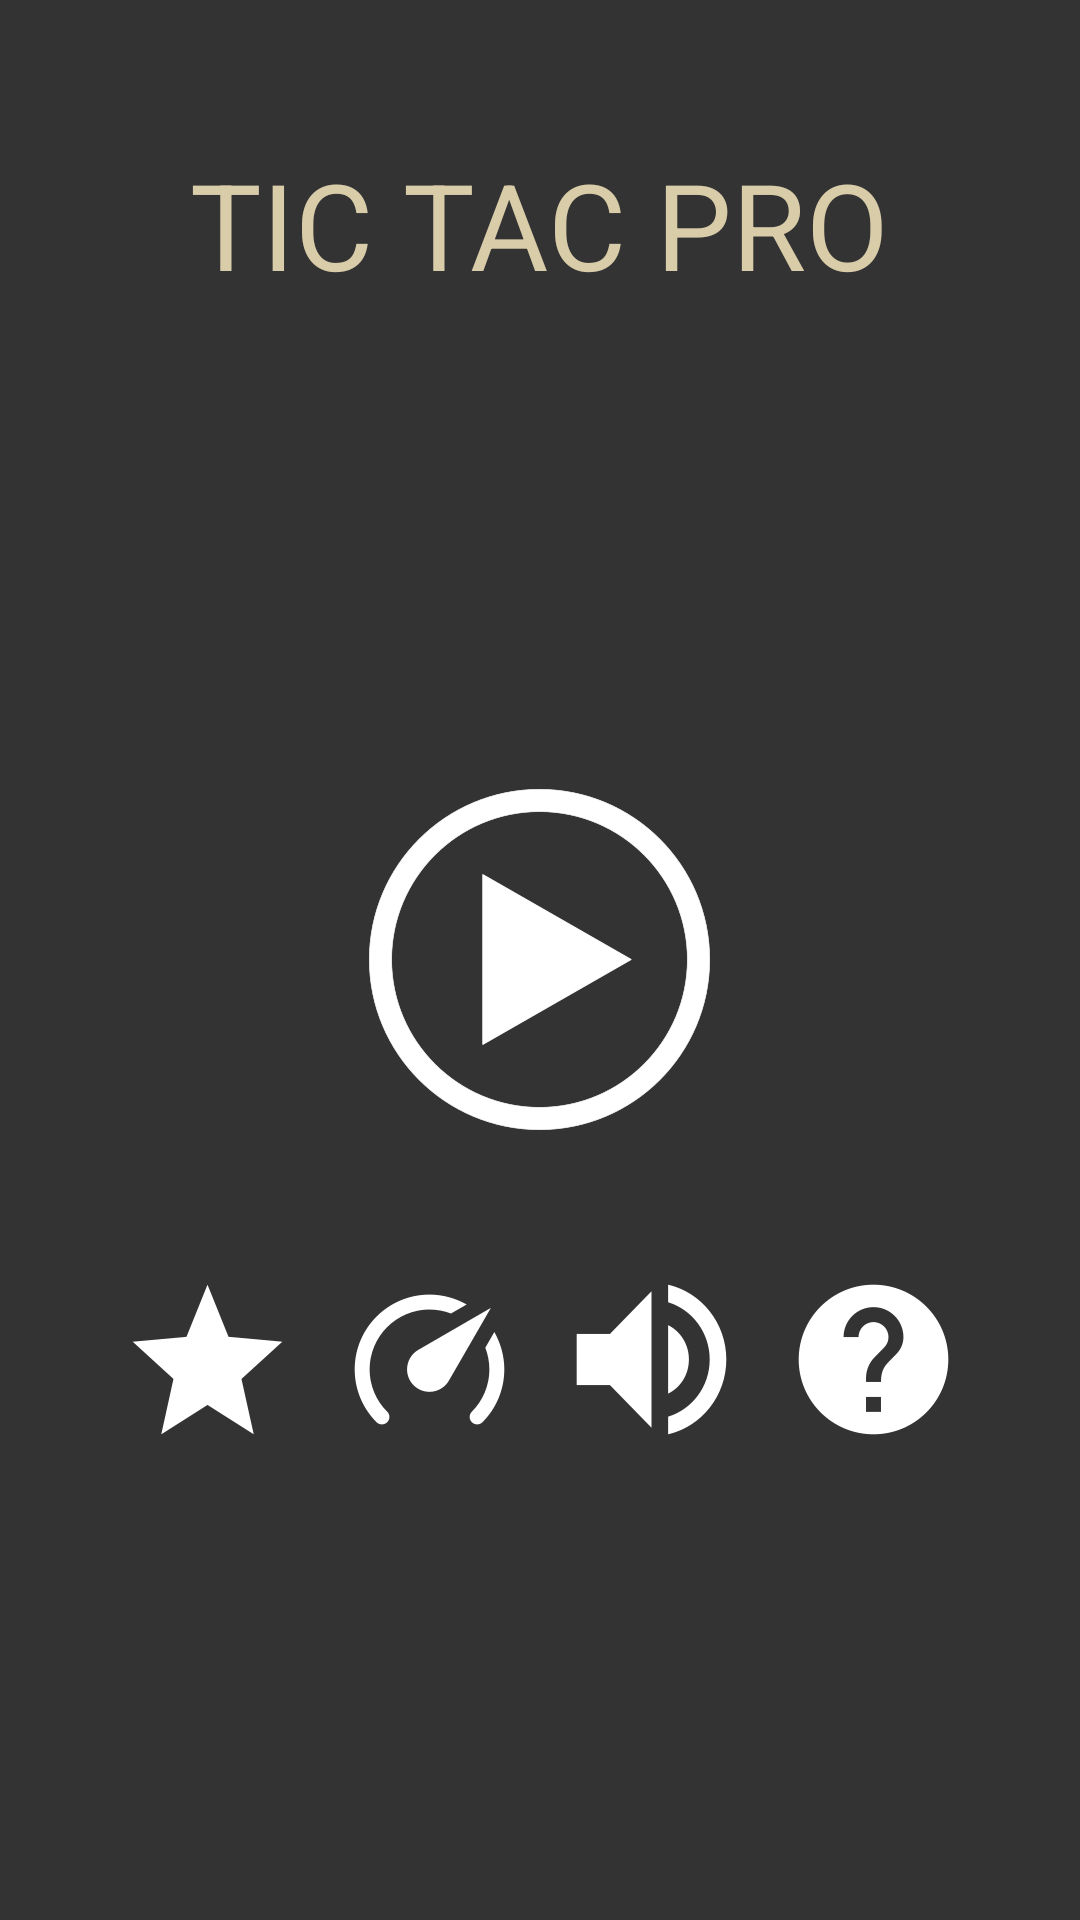

Icons on this 1080*1920 Android screen, each with its box as (x1, y1, x2, y2):
difficulty: (354, 1294, 505, 1425)
help: (798, 1284, 949, 1435)
play: (369, 789, 710, 1130)
star: (133, 1285, 282, 1434)
volume high: (576, 1284, 727, 1435)
